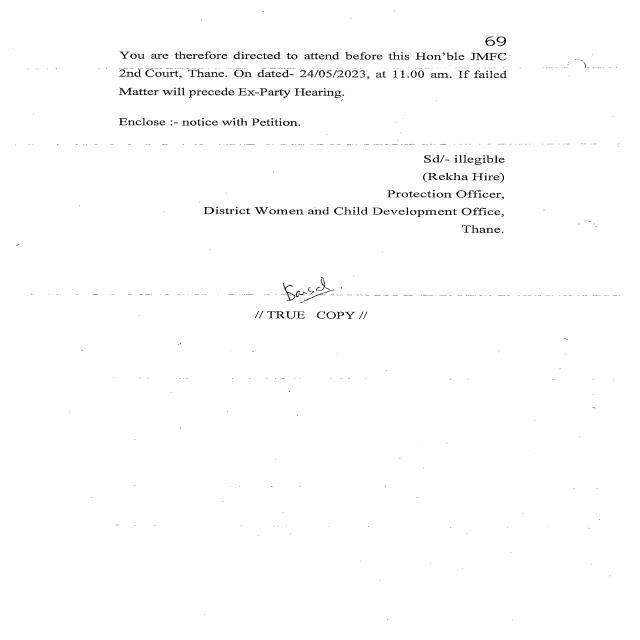page-number: (400, 0, 640, 50)
